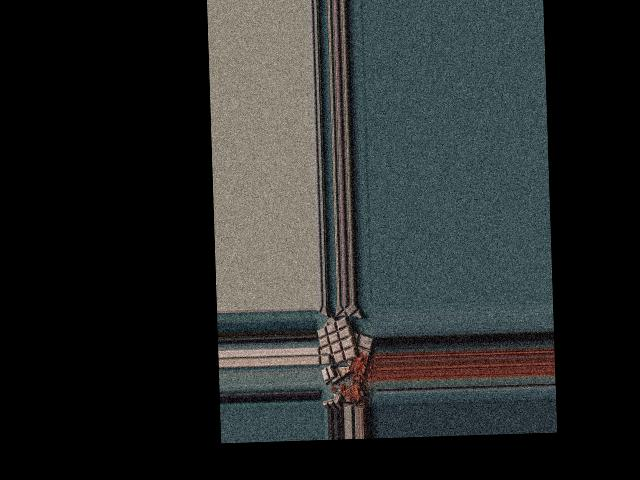chocolate: (316, 315, 357, 363)
